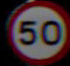Speed limit: (5, 2, 66, 59)
